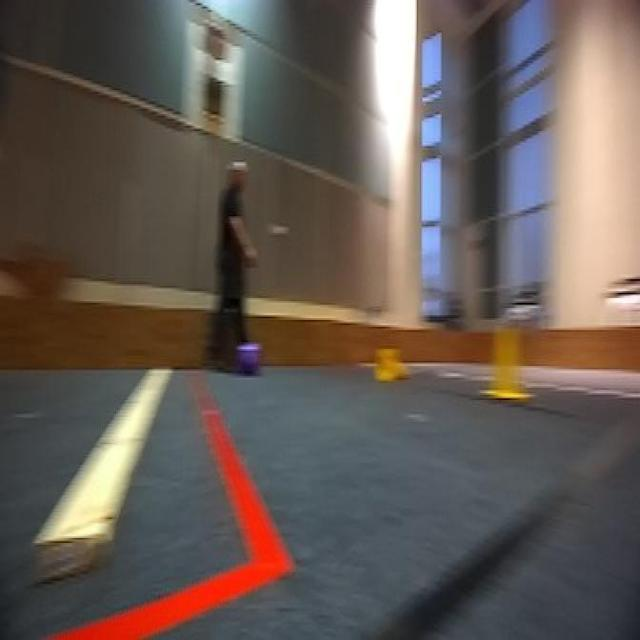frc_cone: (472, 324, 532, 405), (375, 348, 415, 387)
frc_cube: (240, 344, 261, 376)
